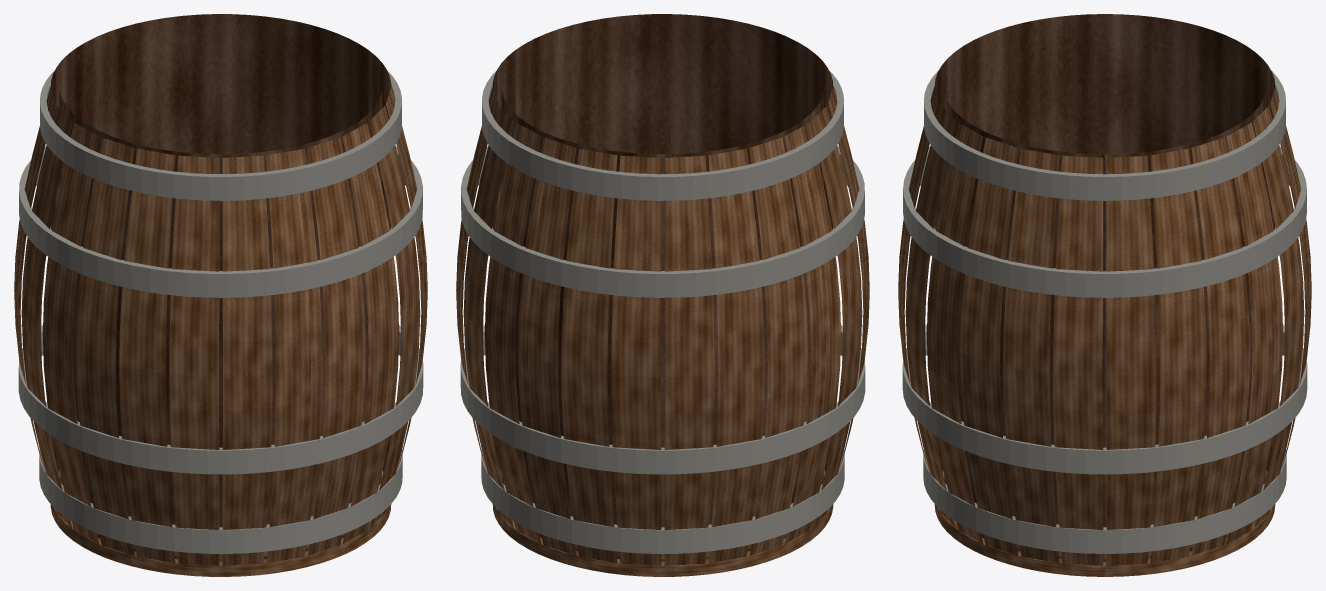
The model's file is barrel_open.glb.
3 renders of one model, left to right at view 1: azimuth 30°, elevation 25°; view 2: azimuth 150°, elevation 25°; view 3: azimuth 270°, elevation 25°, orthographic.
Parts seen in each view (by area): view 1: Barrel_Open_028, Barrel_Open_008, Barrel_Open_007, Barrel_Open_006, Barrel_Open_009, Barrel_Open_026, Barrel_Open_010, Barrel_Open_005, Barrel_Open_025, Barrel_Open_027, Barrel_Open_024, Barrel_Open_011 (+6 smaller); view 2: Barrel_Open_028, Barrel_Open_015, Barrel_Open_016, Barrel_Open_017, Barrel_Open_014, Barrel_Open_026, Barrel_Open_013, Barrel_Open_018, Barrel_Open_025, Barrel_Open_027, Barrel_Open_024, Barrel_Open_012 (+6 smaller); view 3: Barrel_Open_028, Barrel_Open_000, Barrel_Open_023, Barrel_Open_001, Barrel_Open_022, Barrel_Open_026, Barrel_Open_002, Barrel_Open_021, Barrel_Open_025, Barrel_Open_027, Barrel_Open_024, Barrel_Open_003 (+6 smaller).
Part boxes in pixels (x1,y1,x2,y2): Barrel_Open_028: [50, 14, 391, 561]; Barrel_Open_008: [169, 155, 219, 565]; Barrel_Open_007: [222, 155, 272, 565]; Barrel_Open_006: [266, 148, 322, 563]; Barrel_Open_009: [119, 148, 175, 563]; Barrel_Open_026: [19, 146, 422, 297]; Barrel_Open_010: [76, 137, 134, 555]; Barrel_Open_005: [307, 137, 365, 555]; Barrel_Open_025: [18, 325, 423, 474]; Barrel_Open_027: [40, 70, 401, 200]; Barrel_Open_024: [39, 450, 402, 553]; Barrel_Open_011: [42, 123, 99, 543]; Barrel_Open_028: [492, 14, 833, 561]; Barrel_Open_015: [664, 155, 714, 565]; Barrel_Open_016: [611, 155, 661, 565]; Barrel_Open_017: [561, 148, 617, 563]; Barrel_Open_014: [708, 148, 764, 563]; Barrel_Open_026: [461, 146, 864, 297]; Barrel_Open_013: [749, 137, 807, 555]; Barrel_Open_018: [518, 137, 576, 555]; Barrel_Open_025: [460, 325, 865, 474]; Barrel_Open_027: [482, 70, 843, 200]; Barrel_Open_024: [481, 450, 844, 553]; Barrel_Open_012: [784, 123, 841, 543]; Barrel_Open_028: [934, 14, 1275, 561]; Barrel_Open_000: [1053, 155, 1103, 565]; Barrel_Open_023: [1106, 155, 1156, 565]; Barrel_Open_001: [1003, 148, 1059, 563]; Barrel_Open_022: [1150, 148, 1206, 563]; Barrel_Open_026: [903, 146, 1306, 297]; Barrel_Open_002: [960, 137, 1018, 555]; Barrel_Open_021: [1191, 137, 1249, 555]; Barrel_Open_025: [902, 325, 1307, 474]; Barrel_Open_027: [924, 70, 1285, 200]; Barrel_Open_024: [923, 449, 1286, 553]; Barrel_Open_003: [926, 123, 983, 543].
Size of the model in its own units: 0.85 by 0.95 by 0.85.
3 materials, 2 textured.
